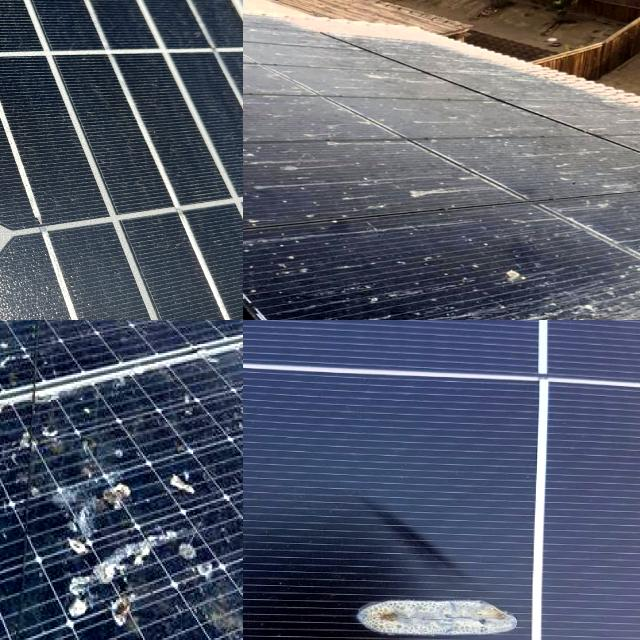bird: (61, 521, 153, 640), (243, 134, 323, 223), (0, 338, 45, 407), (169, 522, 220, 575), (17, 411, 64, 462), (96, 462, 132, 525), (0, 320, 67, 352), (165, 442, 200, 498), (391, 168, 422, 218), (0, 320, 18, 402), (493, 255, 530, 294), (0, 320, 47, 349), (0, 320, 41, 352), (0, 599, 29, 639), (0, 320, 24, 360), (118, 320, 153, 347), (0, 320, 24, 349), (0, 320, 25, 341), (50, 522, 61, 542)
crack: (0, 0, 243, 320)
dust: (478, 118, 640, 223), (285, 266, 489, 320), (243, 51, 352, 113)
shadow: (327, 554, 570, 640)
